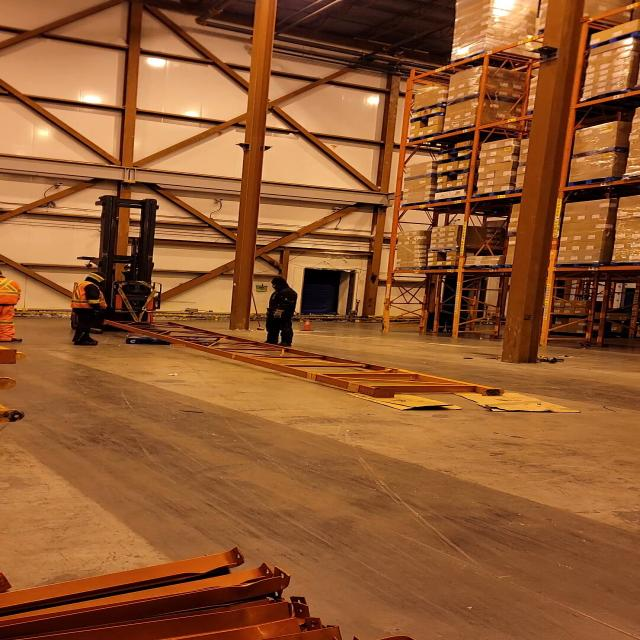forklift: (65, 200, 173, 338)
human: (71, 272, 107, 348), (263, 276, 299, 348), (0, 271, 26, 344)
objectofinterest: (102, 312, 510, 398), (440, 380, 585, 414), (342, 387, 465, 410), (121, 334, 180, 347)
